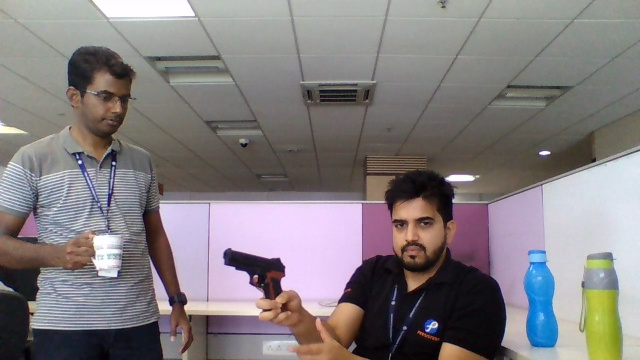gun: (222, 247, 285, 296)
